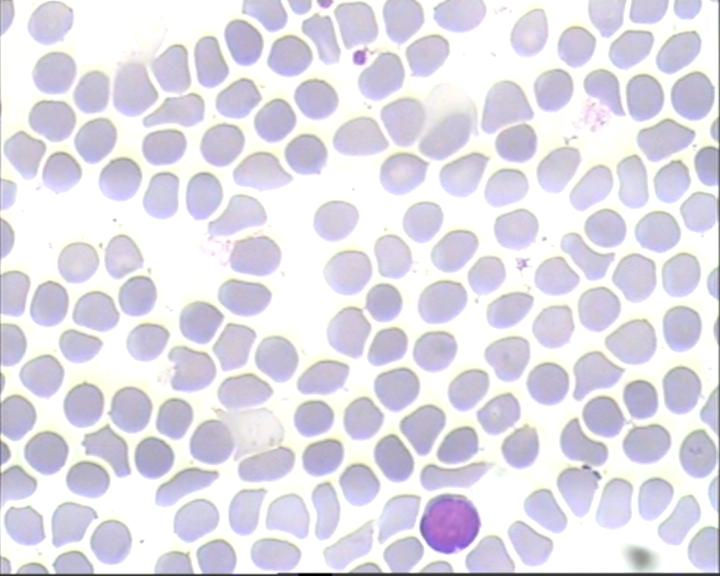lymp: (417, 491, 482, 558)
